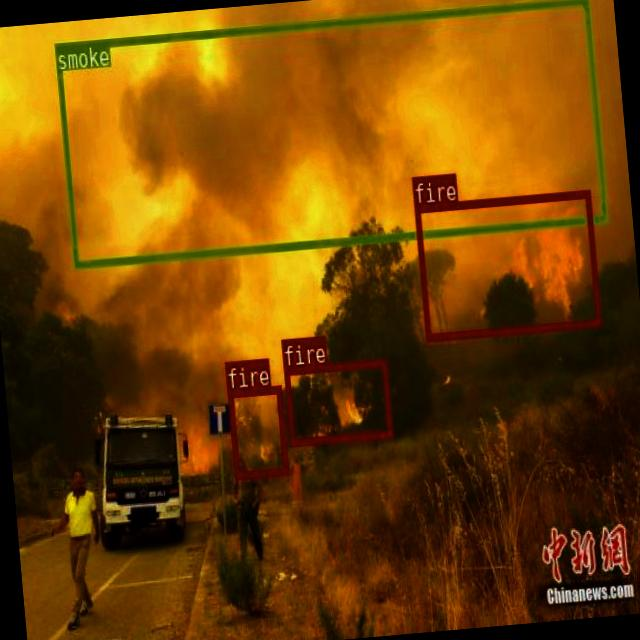fire: (414, 188, 600, 339), (282, 358, 391, 445), (226, 383, 288, 478)
smoke: (52, 0, 606, 267)
